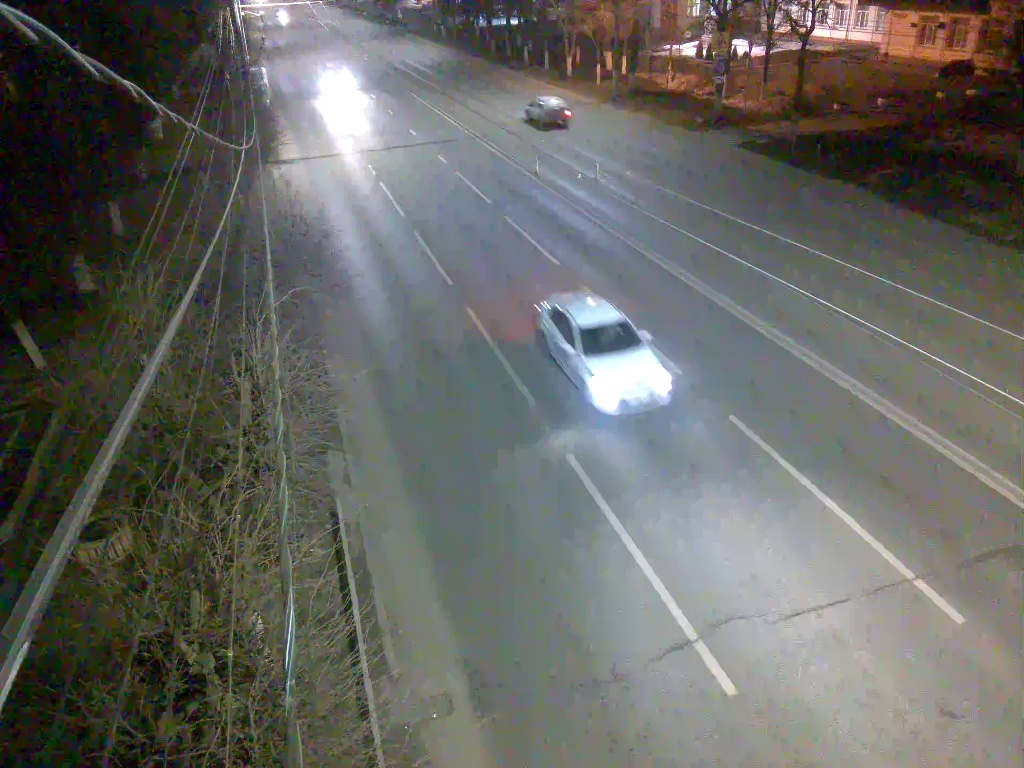car: (526, 282, 686, 418), (516, 93, 578, 129)
